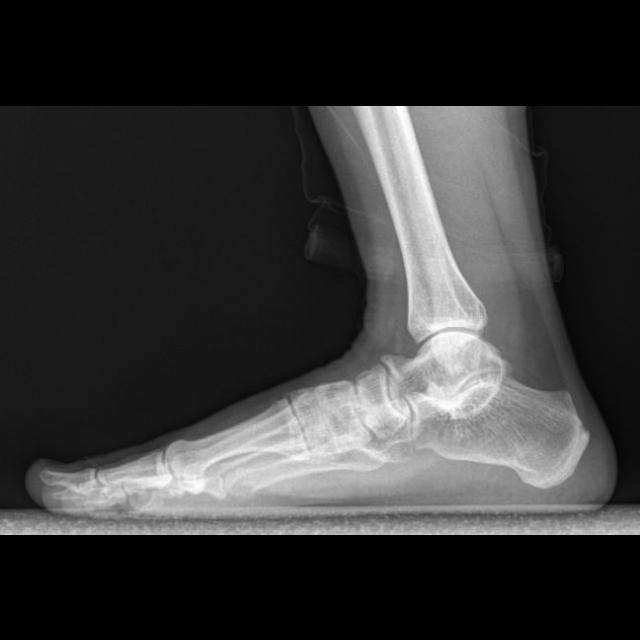a: (408, 376, 589, 489)
b: (355, 363, 410, 438)
c: (168, 397, 309, 484)
